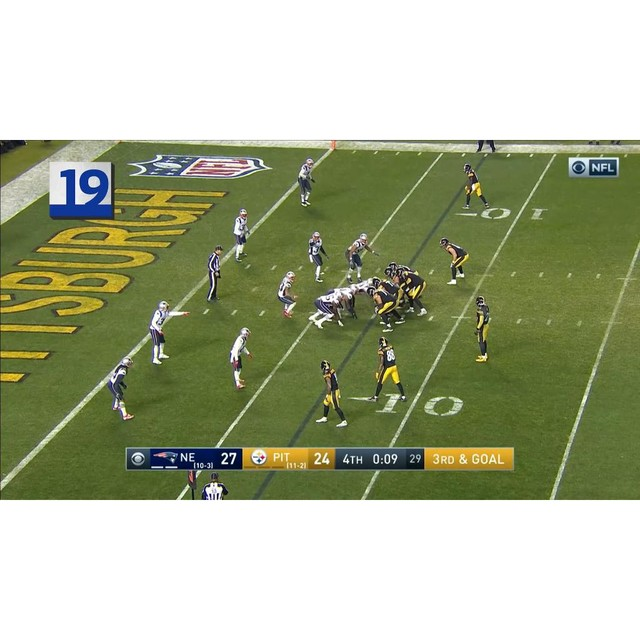american-football-player: (370, 338, 406, 402), (317, 360, 347, 427), (367, 285, 403, 332), (107, 358, 134, 420), (345, 232, 376, 284), (397, 266, 427, 317), (438, 236, 469, 285), (229, 328, 253, 390), (149, 301, 172, 363), (310, 292, 345, 329), (462, 162, 489, 209), (473, 295, 490, 363), (308, 231, 329, 282), (329, 284, 360, 318), (278, 271, 299, 318), (232, 208, 250, 262), (298, 157, 315, 207)
referee: (205, 244, 222, 302)
